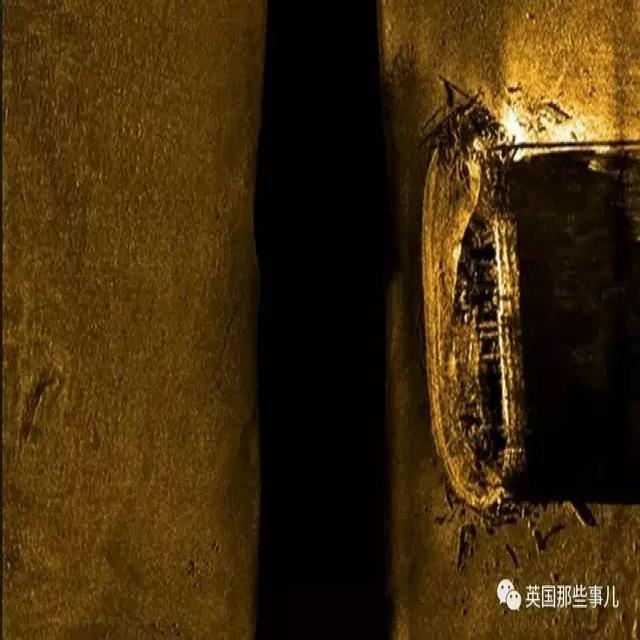ship: (416, 127, 528, 516)
